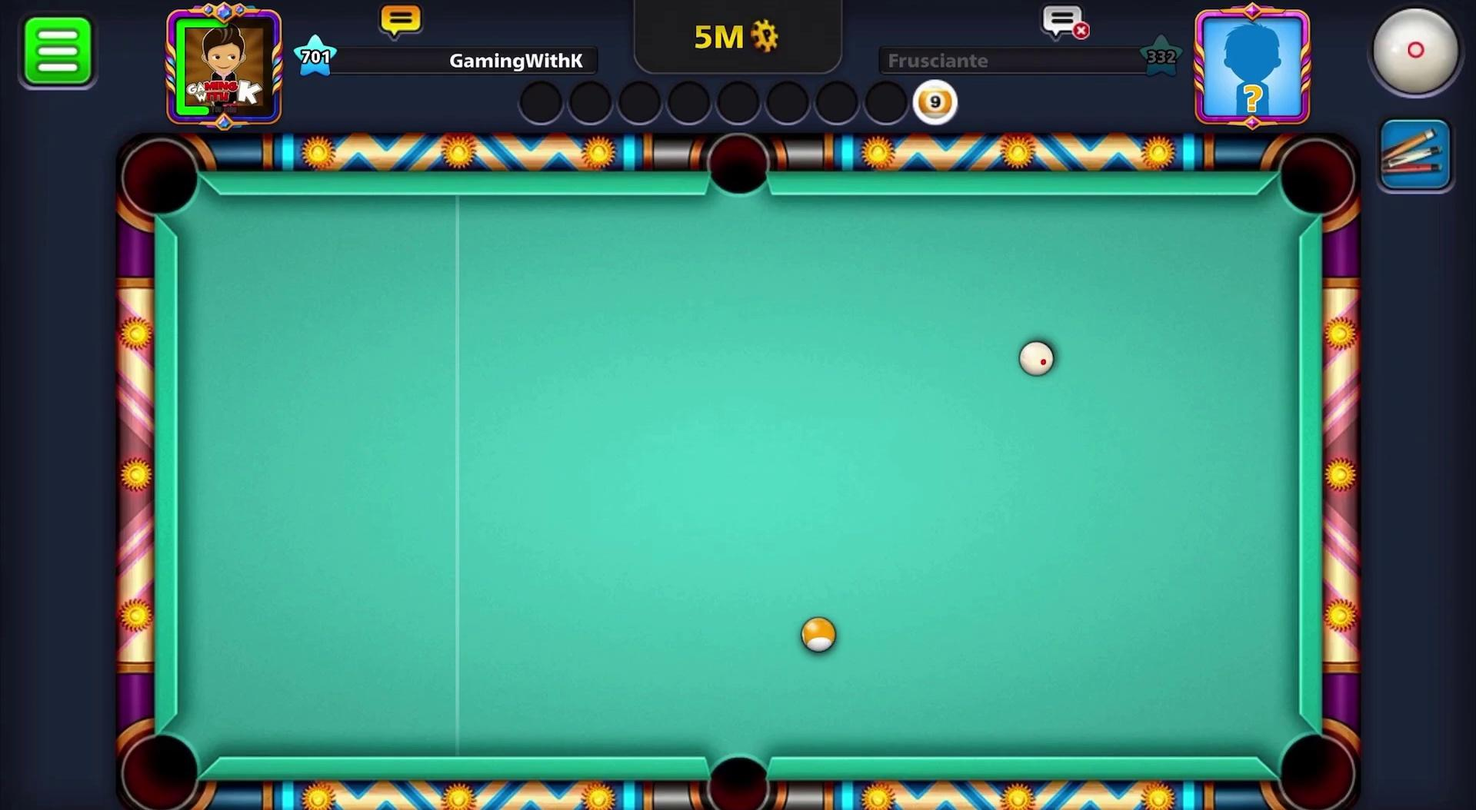Ball: (795, 610, 840, 660)
Hole: (107, 128, 214, 231), (1268, 131, 1364, 233), (110, 717, 213, 809), (1264, 716, 1364, 809), (683, 742, 788, 809), (695, 129, 783, 208)
Play_Area: (177, 194, 1300, 759)
Spin: (1346, 0, 1475, 112)
White: (1015, 334, 1061, 382)
